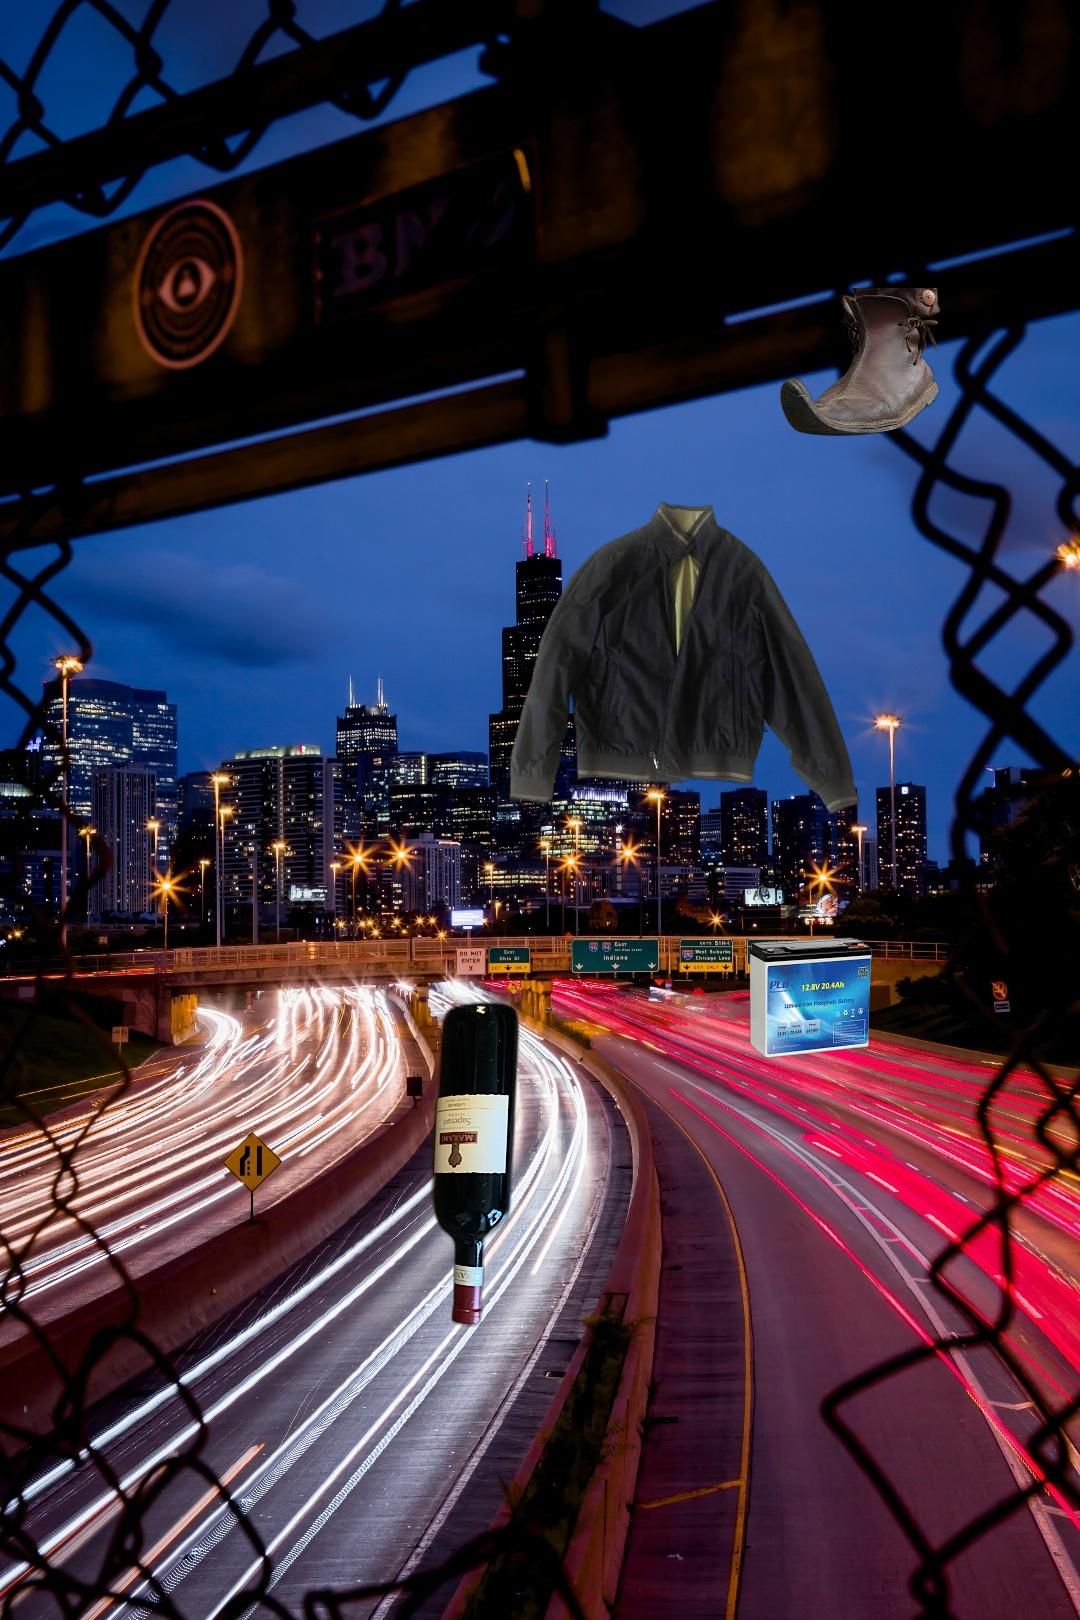battery: (747, 935, 875, 1061)
clothes: (505, 498, 862, 818)
glass: (17, 998, 523, 1538)
shoes: (777, 288, 943, 439)
